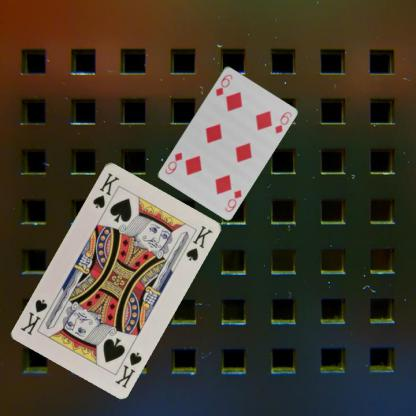6d: (213, 71, 234, 98), (222, 187, 243, 213)
Ks: (90, 170, 121, 210), (112, 349, 143, 389)
